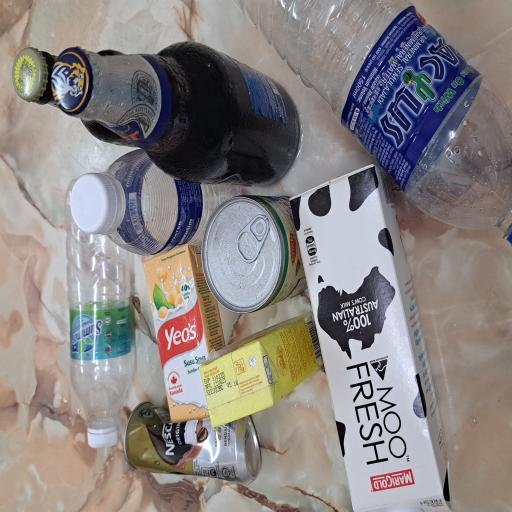can: (148, 268, 238, 410), (22, 164, 84, 350)
drink carton: (0, 384, 260, 512), (66, 190, 203, 300), (65, 266, 149, 430)
glass bottle: (244, 68, 353, 400), (273, 16, 349, 174)
plastic bottle: (207, 303, 384, 512), (63, 86, 250, 180), (194, 137, 274, 324)
plastic bottle cap: (210, 94, 255, 157), (48, 116, 64, 157)
pop tab: (186, 314, 224, 360)
